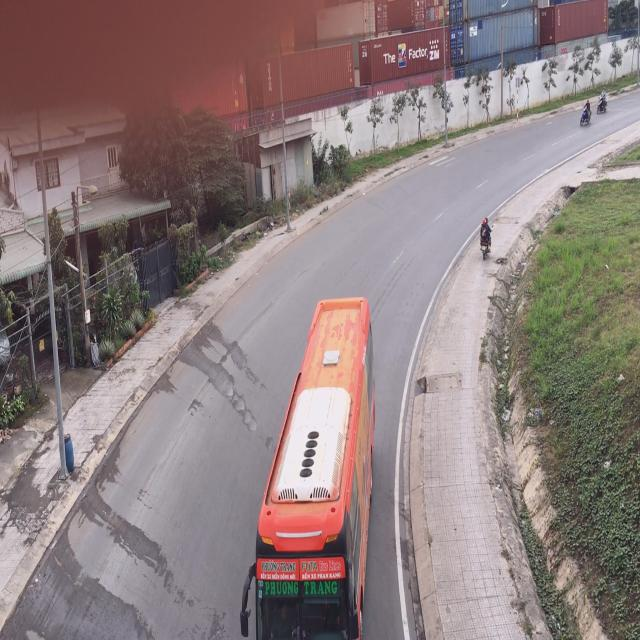bus: (241, 288, 370, 636)
motorbike: (479, 217, 493, 263), (596, 84, 608, 115), (582, 97, 592, 127)
